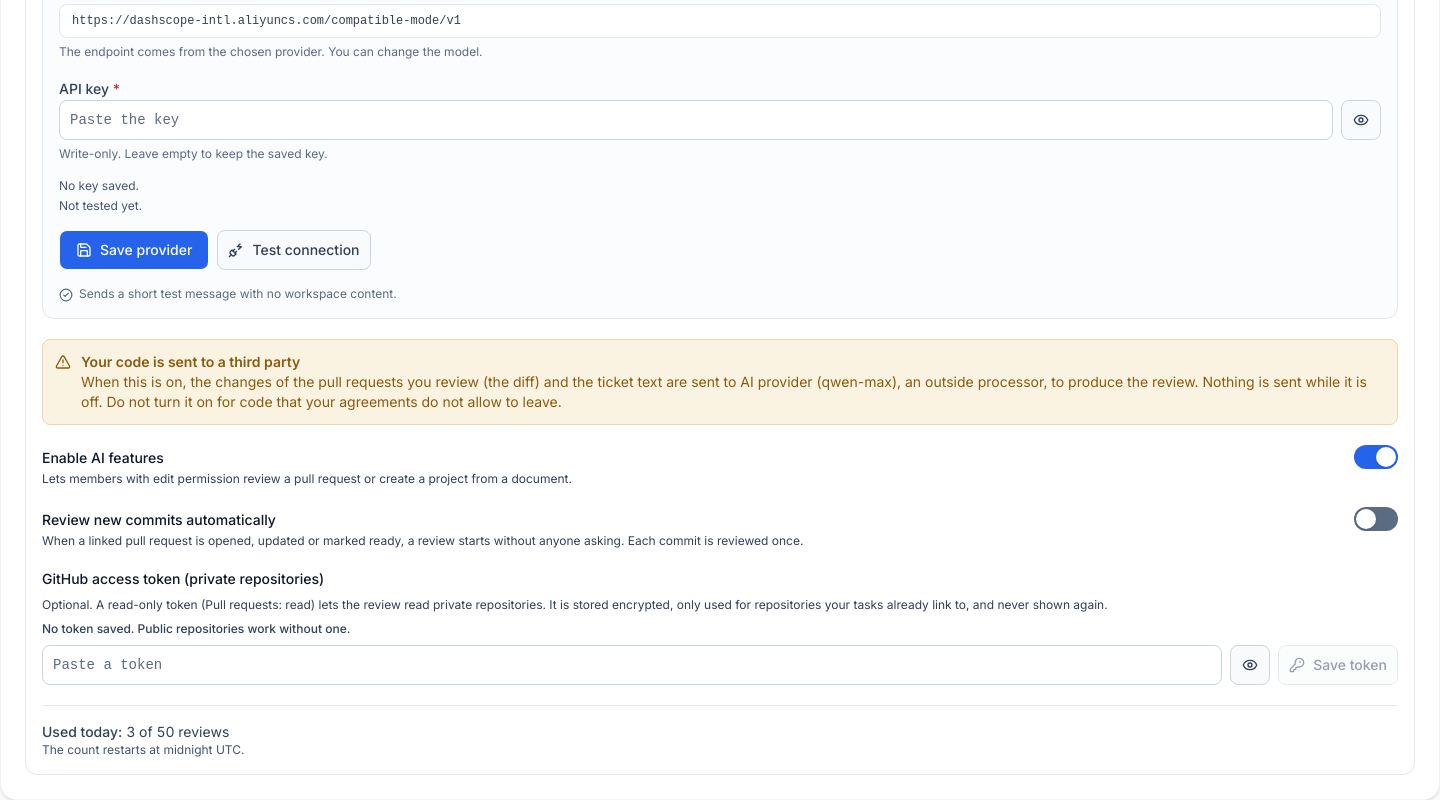
Test: AiReviewSettingsCard › AC-025: saves the GitHub token write-only: the field is cleared and the token is never shown again
(page scrolled)
Expected: the text "No token saved. Public repositories work without one." is shown, [42,621,350,636]
Type "ghp_abcdefghijklmnopqrstuvwxyz0123456789" into the password field labelled "GitHub access token (private repositories)" at (632,665), box [42,645,1222,685]
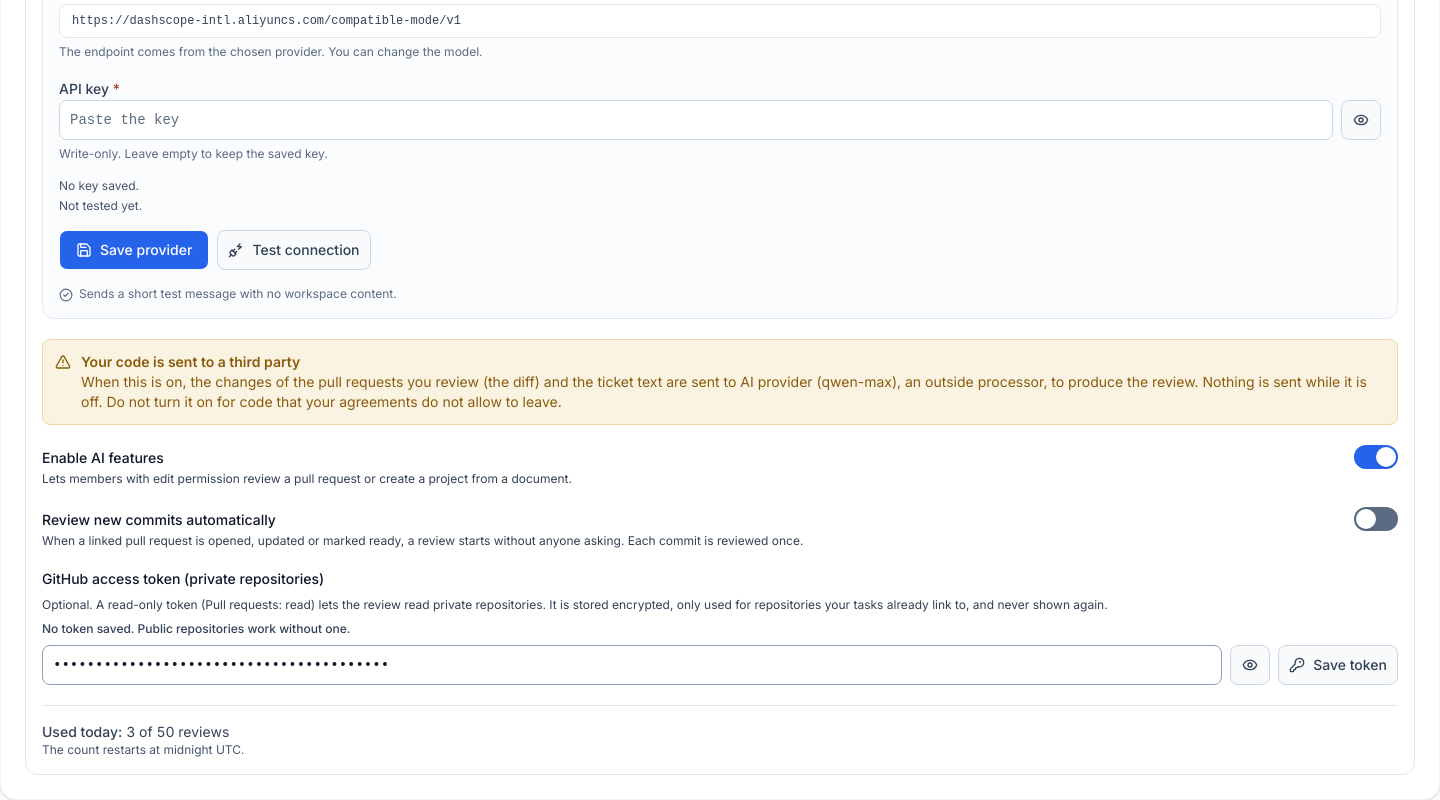
Click the button "Save token" at (1338,665), box [1278,645,1398,685]
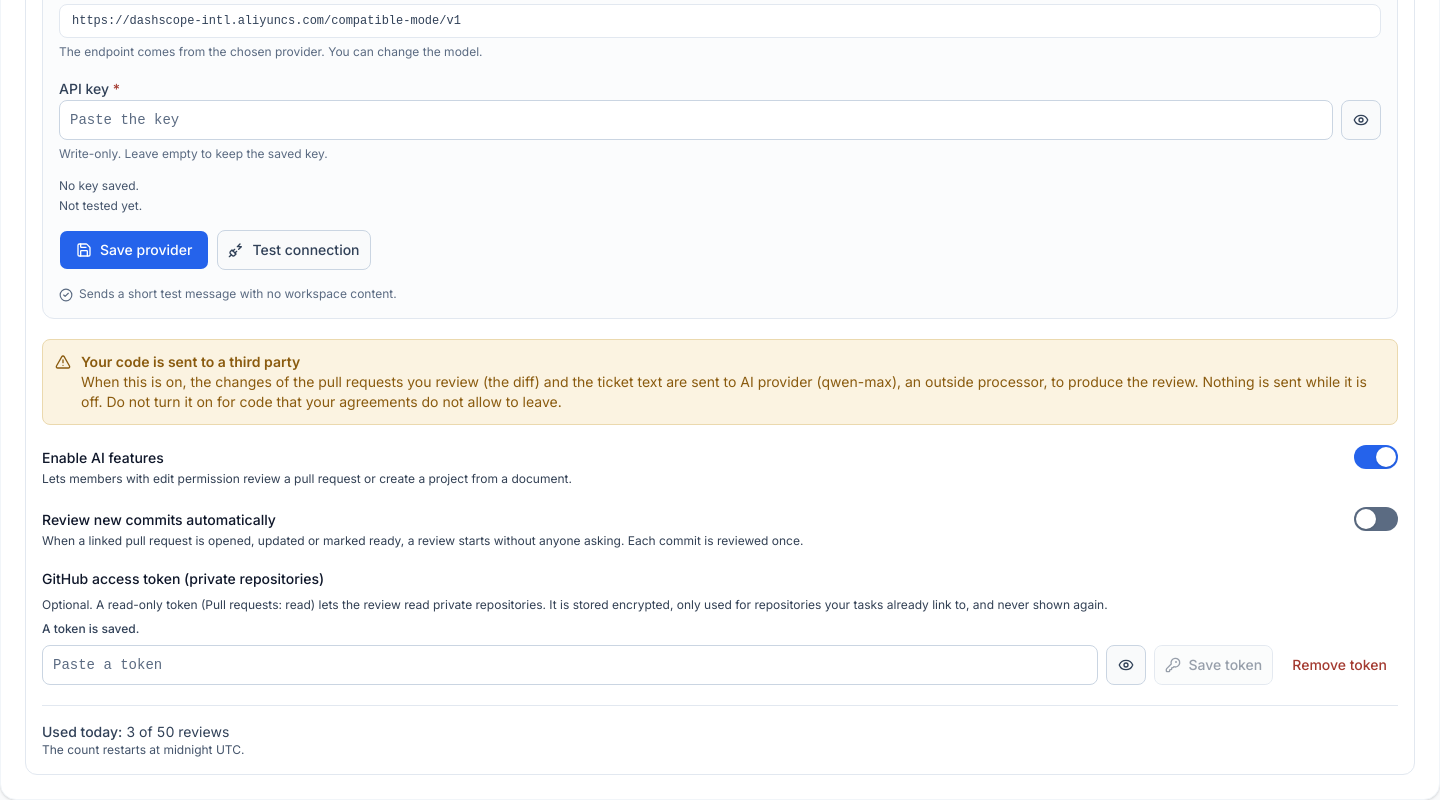
Now the text "A token is saved." is shown, box [42,621,139,636]
Now the password field labelled "GitHub access token (private repositories)" is empty, box [42,645,1098,685]
Now the button "Remove token" is shown, box [1281,645,1398,685]
